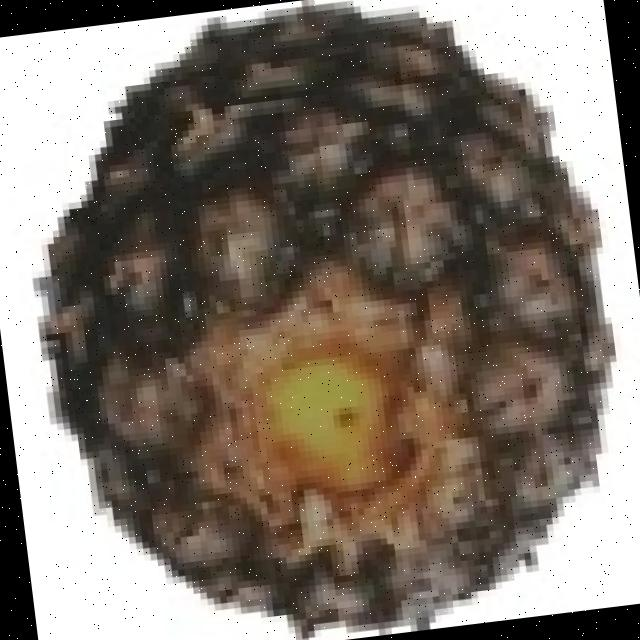pineapple: (57, 18, 622, 636)
